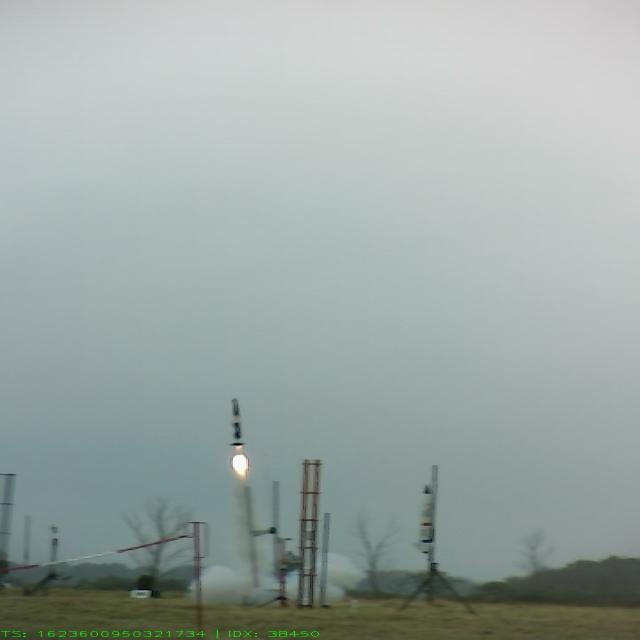Rocket: (412, 483, 438, 553), (226, 396, 247, 446)
